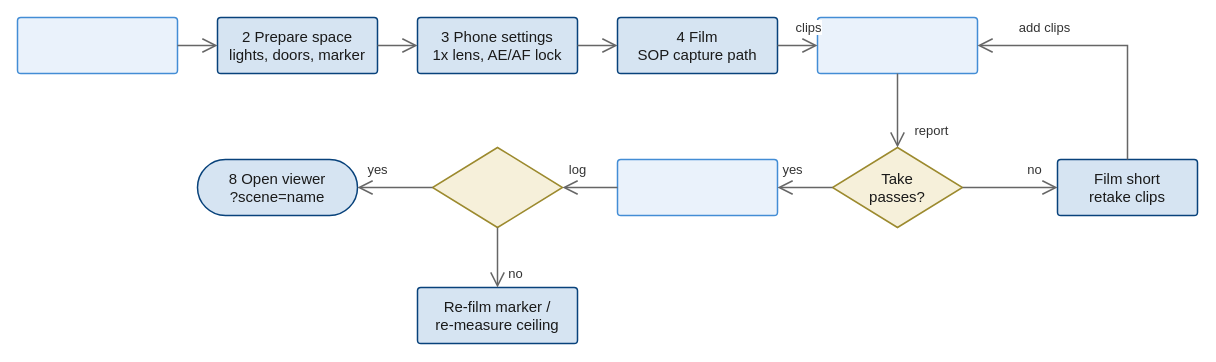
Some shapes in this 1216 by 362 pixel diagram are drawn without their labels. The centre of each missing label's shape, as x and y in pixels:
"1 Install docs/SETUP.md" belongs at (97,45).
"5 Pre-flight preflight.py" belongs at (897,45).
"6 Build twin Studio or CLI" belongs at (697,187).
"7 Gates OK?" belongs at (497,187).
